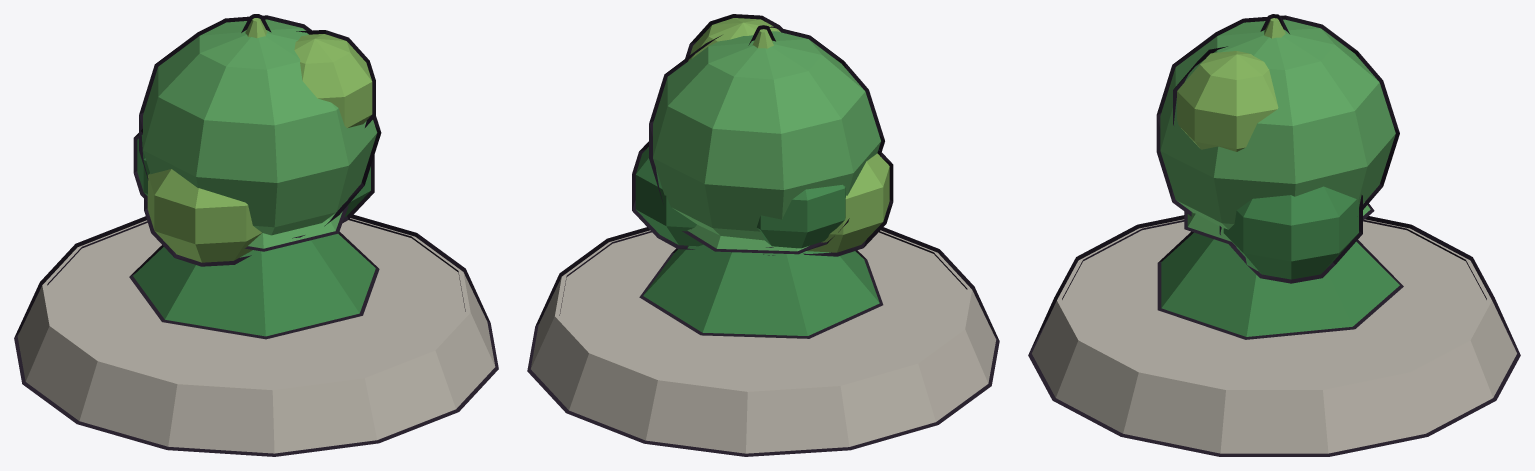
Rendered from decor.glb.
3 views of the same model, side by side, from view 1: azimuth 30°, elevation 25°; view 2: azimuth 150°, elevation 25°; view 3: azimuth 270°, elevation 25° (orthographic). The views are drawn at different scales.
Parts seen in each view (by area): view 1: dec_FOUNTAIN, dec_TREE_0, dec_TREE_1, dec_TREE_2; view 2: dec_FOUNTAIN, dec_TREE_0, dec_TREE_1, dec_TREE_2; view 3: dec_FOUNTAIN, dec_TREE_0, dec_TREE_1, dec_TREE_2.
Boxes of the visible parts, x1,y1,x2,y2 form: dec_FOUNTAIN: (14, 214, 498, 456); dec_TREE_0: (133, 15, 381, 235); dec_TREE_1: (129, 14, 379, 339); dec_TREE_2: (144, 155, 374, 266); dec_FOUNTAIN: (527, 227, 999, 456); dec_TREE_0: (649, 14, 884, 255); dec_TREE_1: (639, 25, 883, 338); dec_TREE_2: (632, 141, 893, 256); dec_FOUNTAIN: (1028, 215, 1520, 456); dec_TREE_0: (1156, 15, 1399, 229); dec_TREE_1: (1157, 14, 1403, 339); dec_TREE_2: (1219, 186, 1362, 283).
Bounding box in the file's own units: 5.74 × 4.59 × 5.89.
